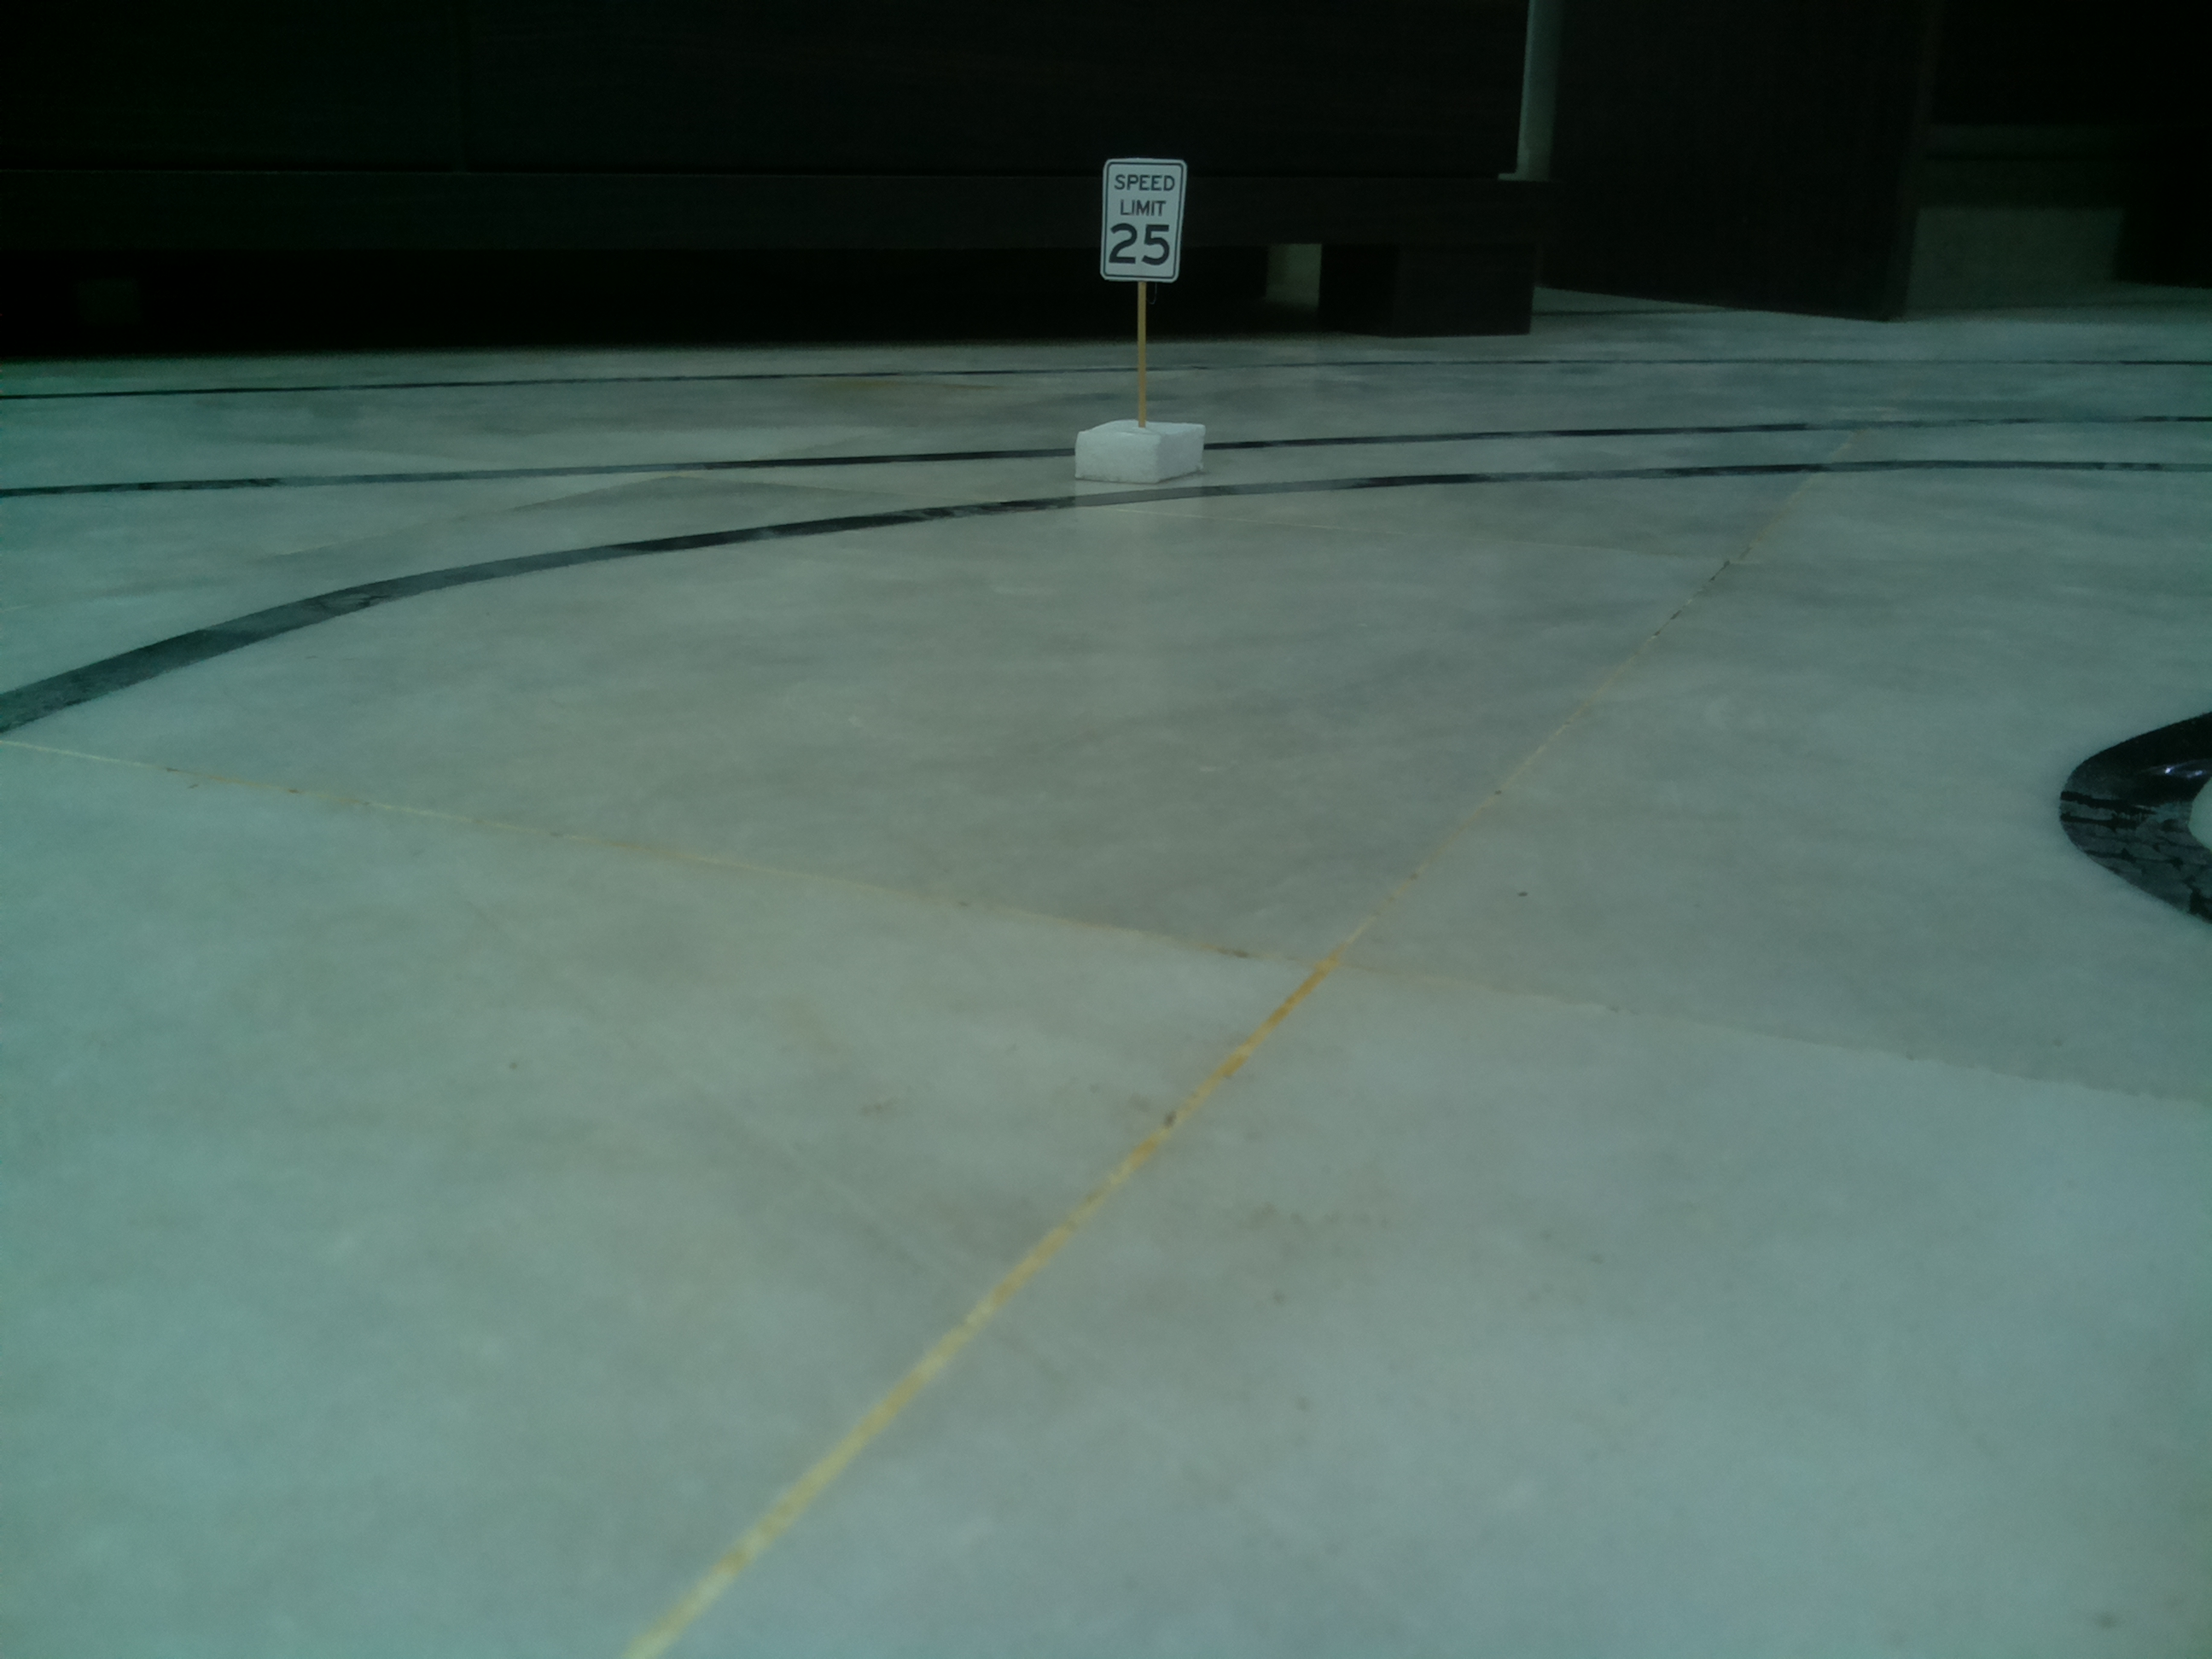Speed limit 25: (1101, 150, 1198, 305)
